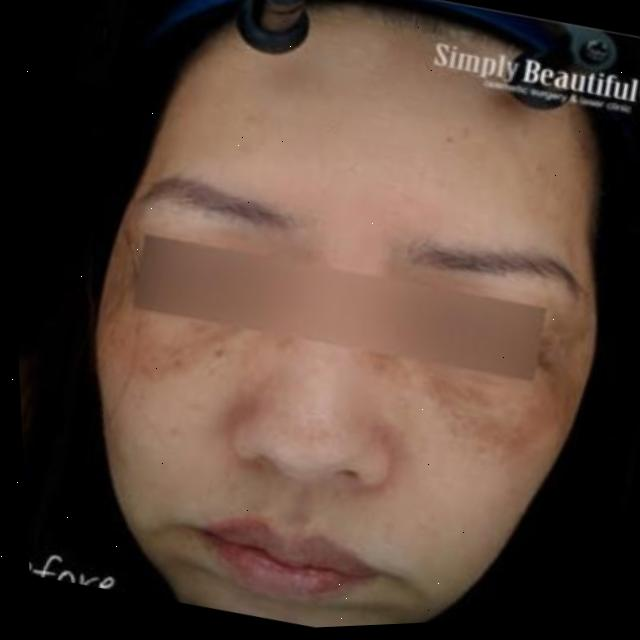Melasma: (429, 356, 614, 485), (120, 305, 244, 409)
